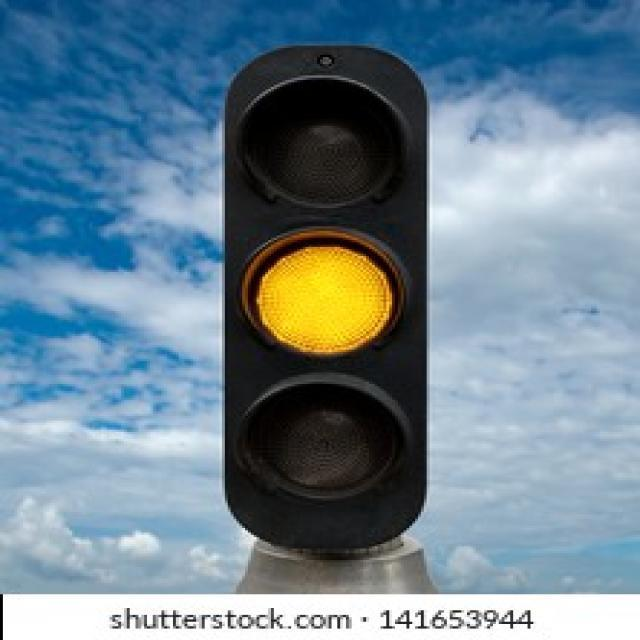yellow_light: (224, 42, 423, 554)
